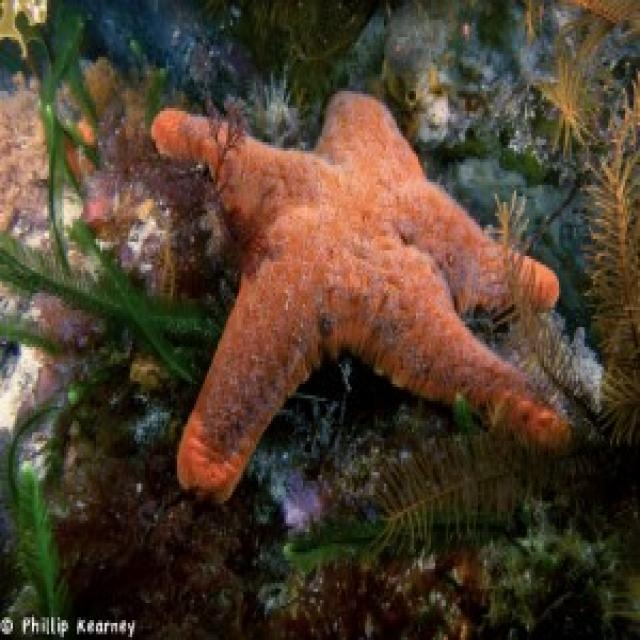Starfish: (144, 86, 584, 500)
